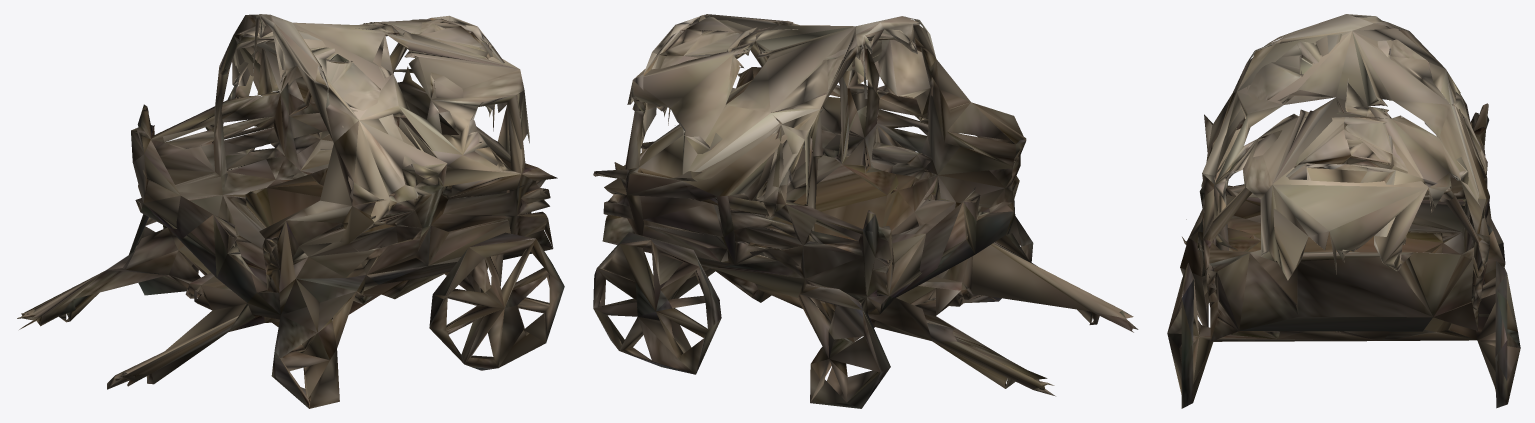
Rendered from wagon.glb.
The picture shows the model from 3 angles, left to right: view 1: azimuth 30°, elevation 25°; view 2: azimuth 150°, elevation 25°; view 3: azimuth 270°, elevation 25°; orthographic projection. The views are drawn at different scales.
Visible parts, largest first — view 1: Mesh_0; view 2: Mesh_0; view 3: Mesh_0.
Part boxes in pixels (bbox=[...]): Mesh_0: bbox=[17, 14, 564, 408]; Mesh_0: bbox=[593, 14, 1138, 408]; Mesh_0: bbox=[1167, 14, 1520, 408].
Size of the model in its own units: 1.89 by 1.37 by 1.35.
Materials: 1 (1 with a texture image).
